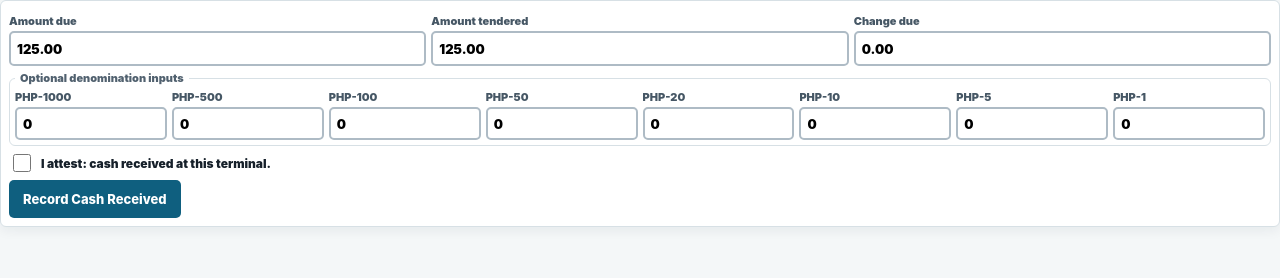
Test case: CashCapturePanel › requires cashier attestation
Click the button "Record Cash Received" at {"x": 95, "y": 199}, box [9,180,180,218]
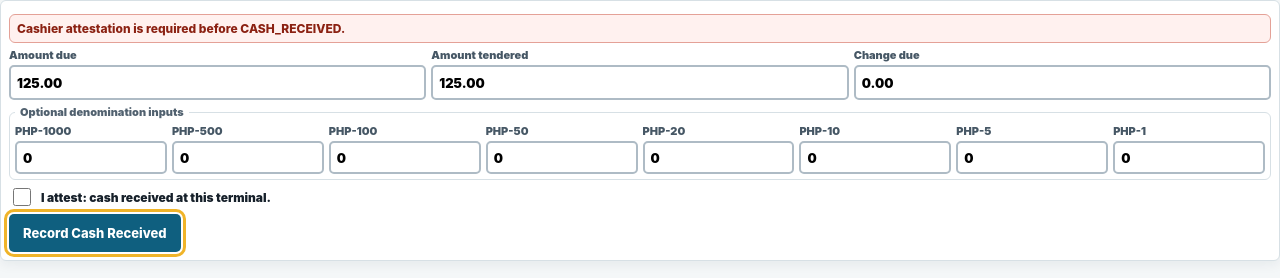
Expected: the text "Cashier attestation is required before CASH_RECEIVED." is shown, [9,14,1271,43]
